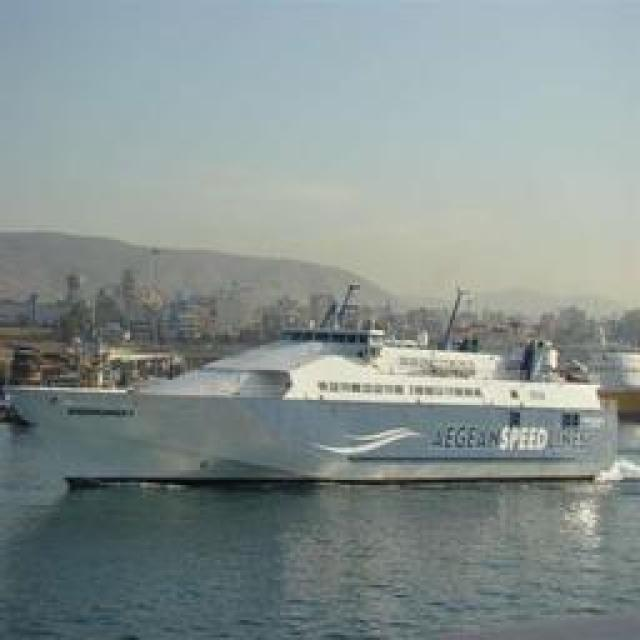CIV_Ship: (31, 308, 616, 486)
